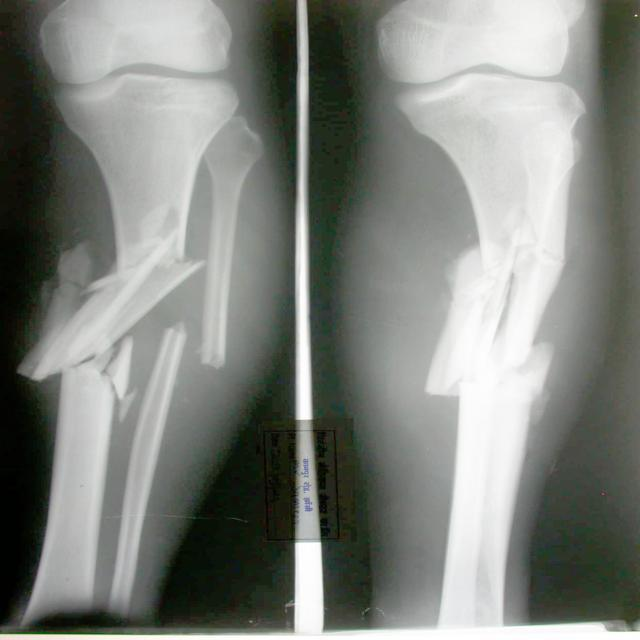Comminuted Fracture: (101, 218, 226, 295), (31, 326, 130, 409), (167, 306, 265, 384)
